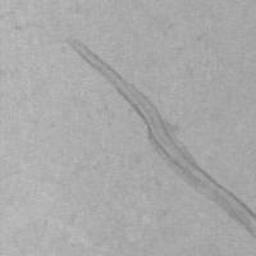Water spot: (67, 36, 256, 238)
